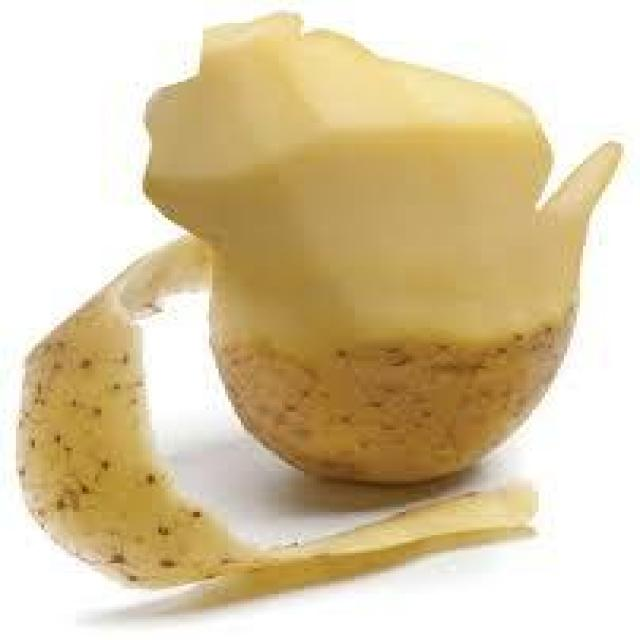organic: (13, 13, 624, 604)
